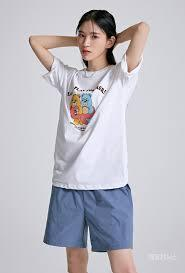Tshirt: (41, 51, 144, 190)
short: (41, 181, 134, 253)
